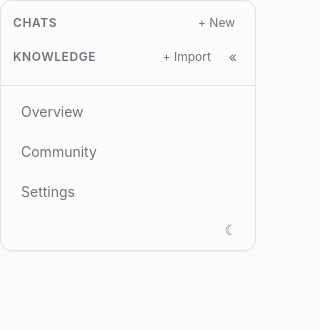
Scenario: Import Flow › shows error state when ingest API returns error
Click the button with test id "import-button" at (187, 57), box x1=155 y1=47 x2=219 y2=67
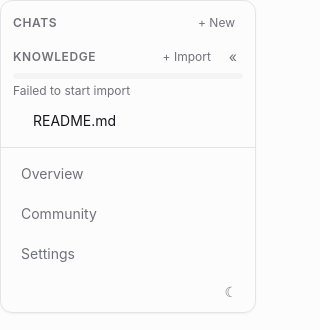
expect the text with test id "import-status-text" reads "Failed to start import": met, box x1=13 y1=83 x2=130 y2=98
